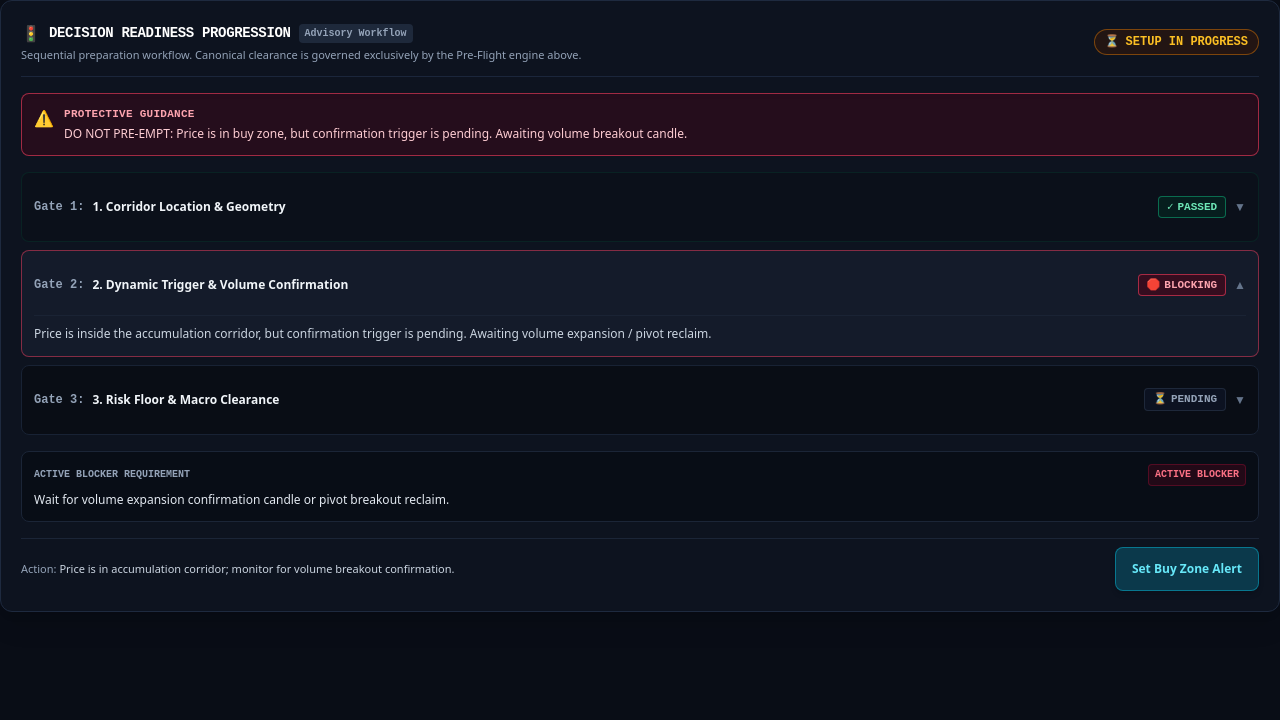
DecisionReadinessCard Component › expands gate explanation upon click (progressive disclosure)
Expected: the text with test id "gate-explanation-2" is shown, [34,315,1246,344]
# Click Gate 1 button
Step 1. Click the button "Gate 1: 1. Corridor Location & Geometry ✓ PASSED ▼" → (52, 207), box [34,196,1246,218]
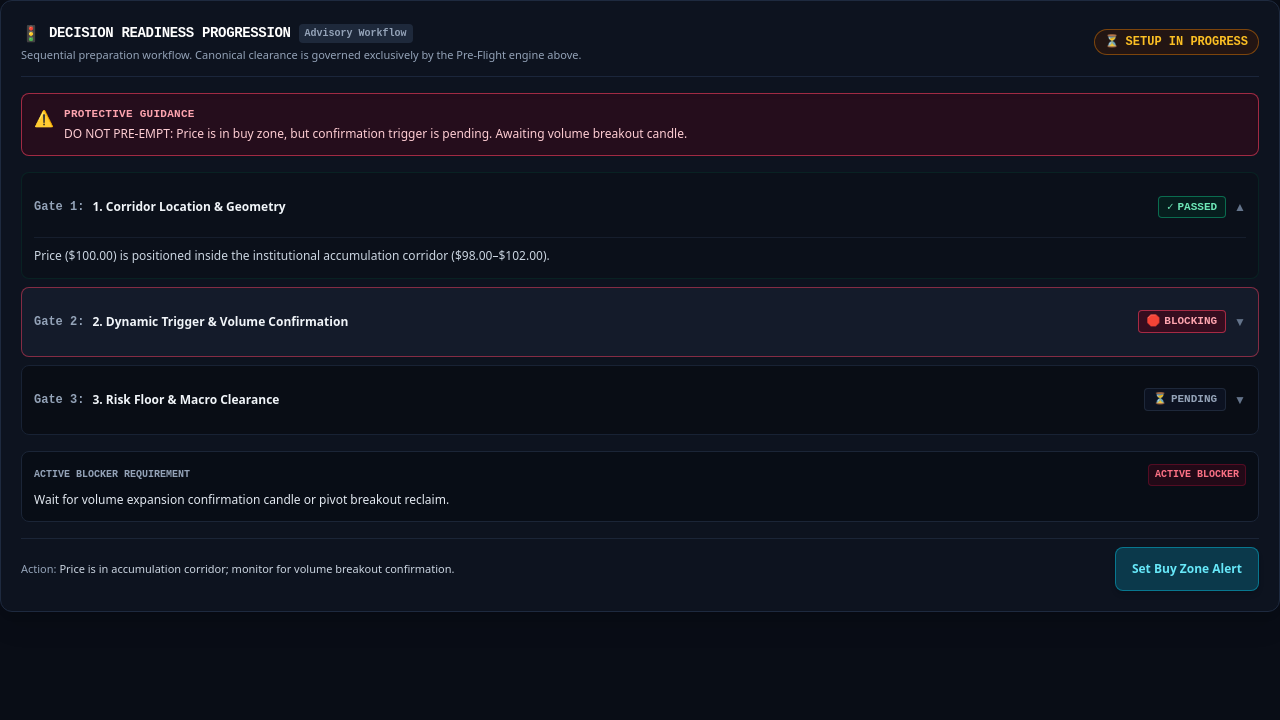
Expected: the text with test id "gate-explanation-1" is shown, [34,237,1246,266]
Expected: the text with test id "gate-explanation-1" shows "positioned inside the institutional accumulation corridor", [34,247,550,264]
